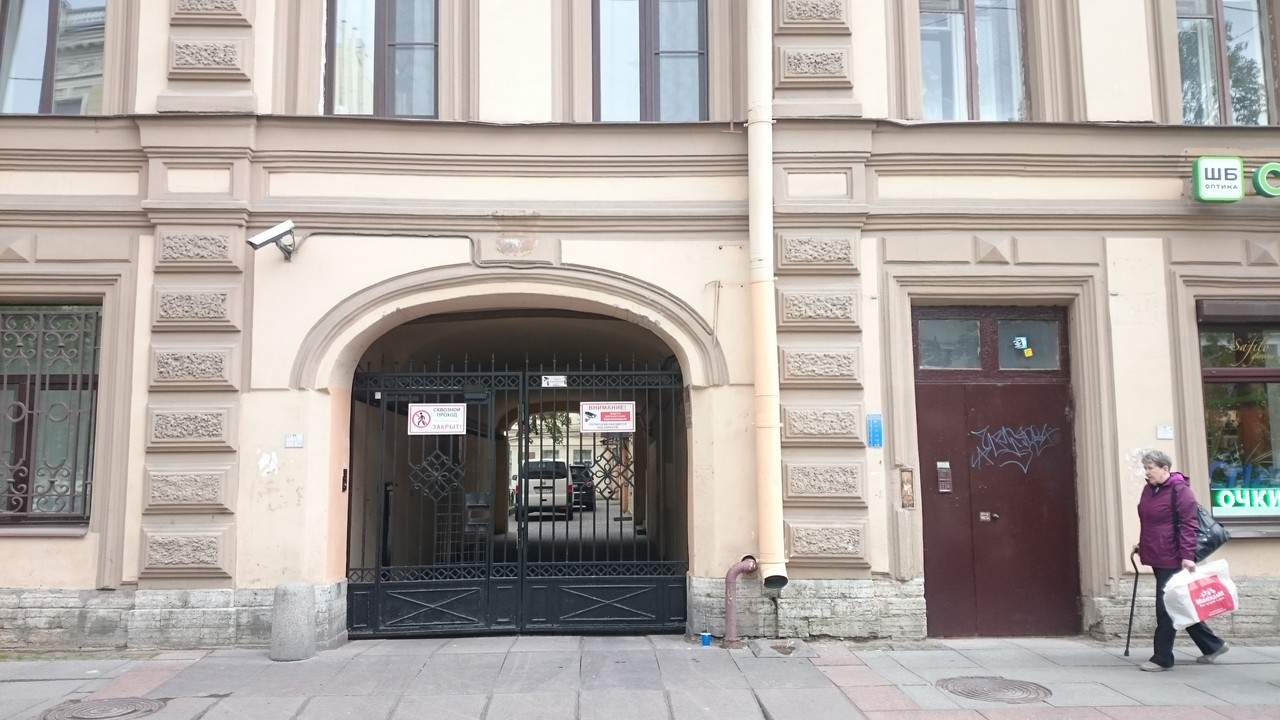arch: (325, 293, 697, 636)
door: (913, 380, 1082, 636)
signboard: (1186, 150, 1280, 204)
window: (1, 300, 100, 527), (597, 1, 705, 125), (322, 1, 439, 115), (921, 1, 1018, 120), (916, 307, 1069, 377)
